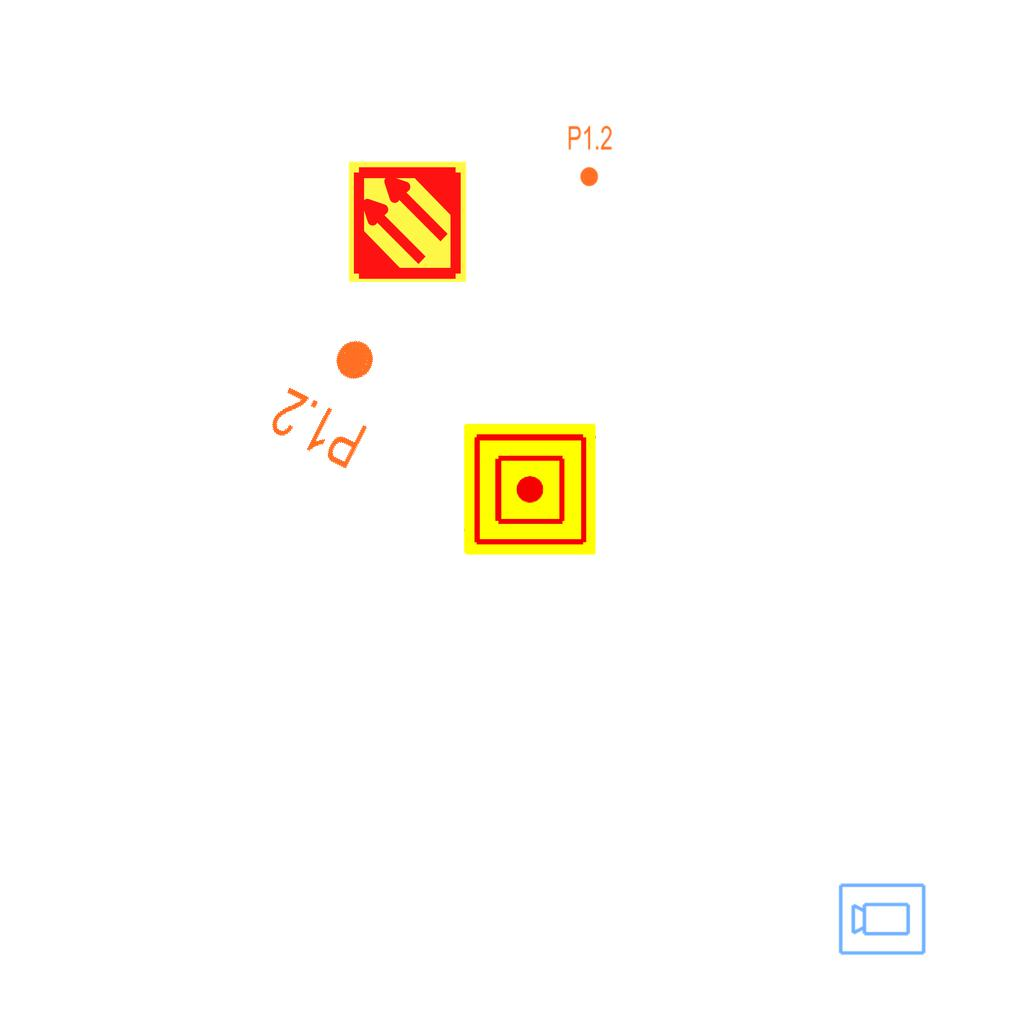ASR_Ansaugrauchmelder: (345, 159, 470, 284)
Downlight_LED_Einbauleuchten_Flur: (264, 317, 405, 475), (567, 124, 613, 188)
KFO_Kamera_mit_Festobjektiv: (837, 880, 928, 957)
NAM-Nichtautomatischer_Melder: (464, 423, 596, 555)
